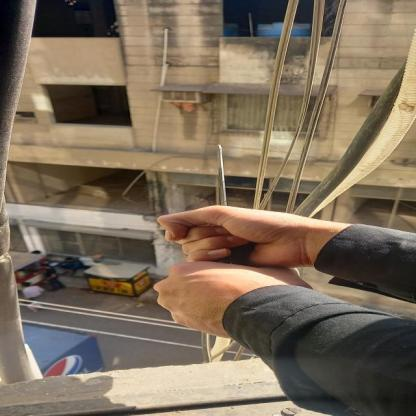Knife: (189, 144, 255, 268)
